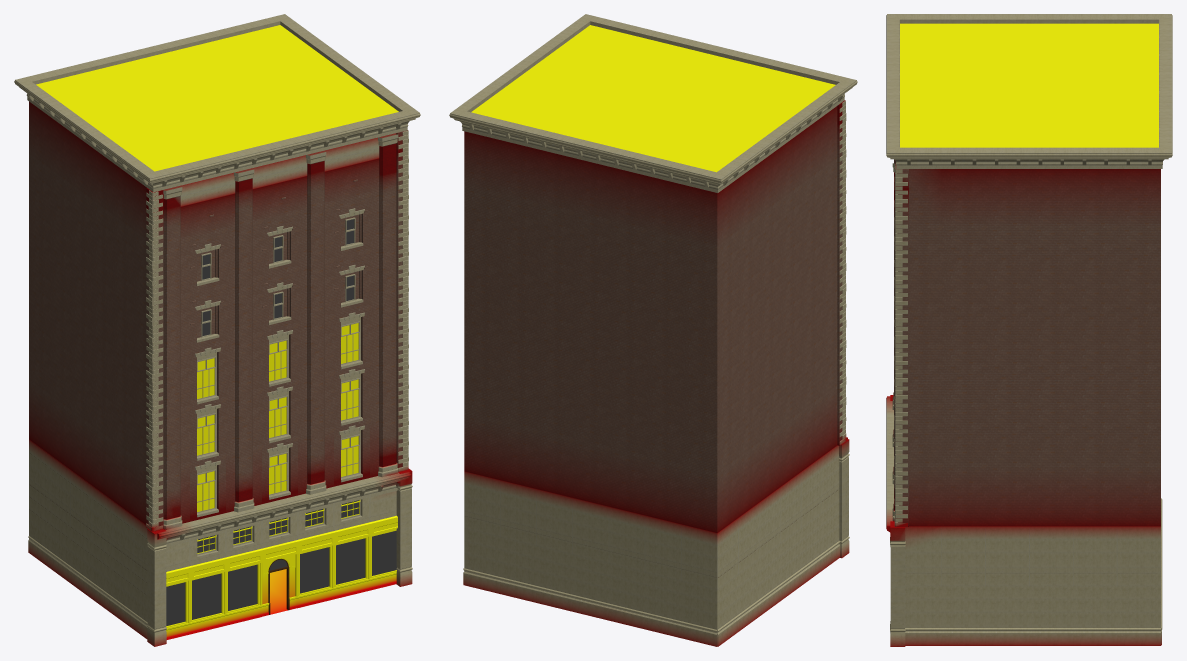
The model's file is building-medium-2-001.glb.
3 views of the same model, side by side, from view 1: azimuth 30°, elevation 25°; view 2: azimuth 150°, elevation 25°; view 3: azimuth 270°, elevation 25° (orthographic). The views are drawn at different scales.
Visible parts, largest first — view 1: Building_Medium_2.001; view 2: Building_Medium_2.001; view 3: Building_Medium_2.001.
Boxes of the visible parts, x1,y1,x2,y2 form: Building_Medium_2.001: (14, 14, 420, 646); Building_Medium_2.001: (449, 14, 857, 646); Building_Medium_2.001: (886, 14, 1172, 646).
Size of the model in its own units: 15.06 by 25.01 by 13.06.
Materials: 5 (2 with a texture image).
